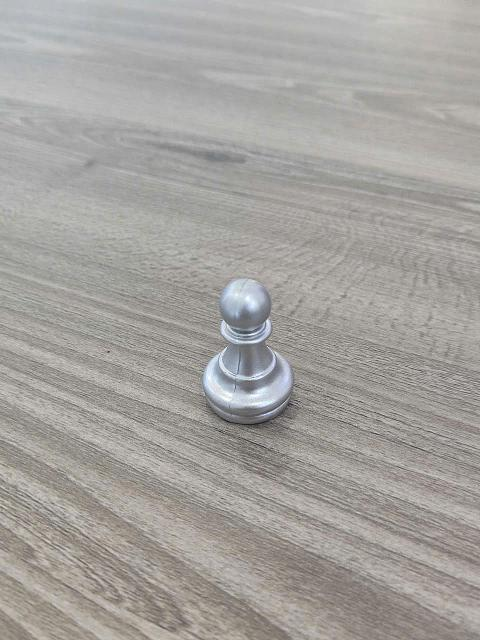white_pawn: (201, 273, 294, 424)
